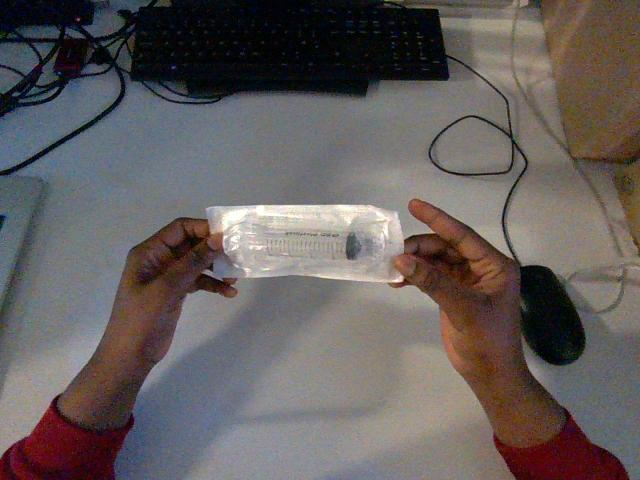syringe: (206, 205, 403, 282)
